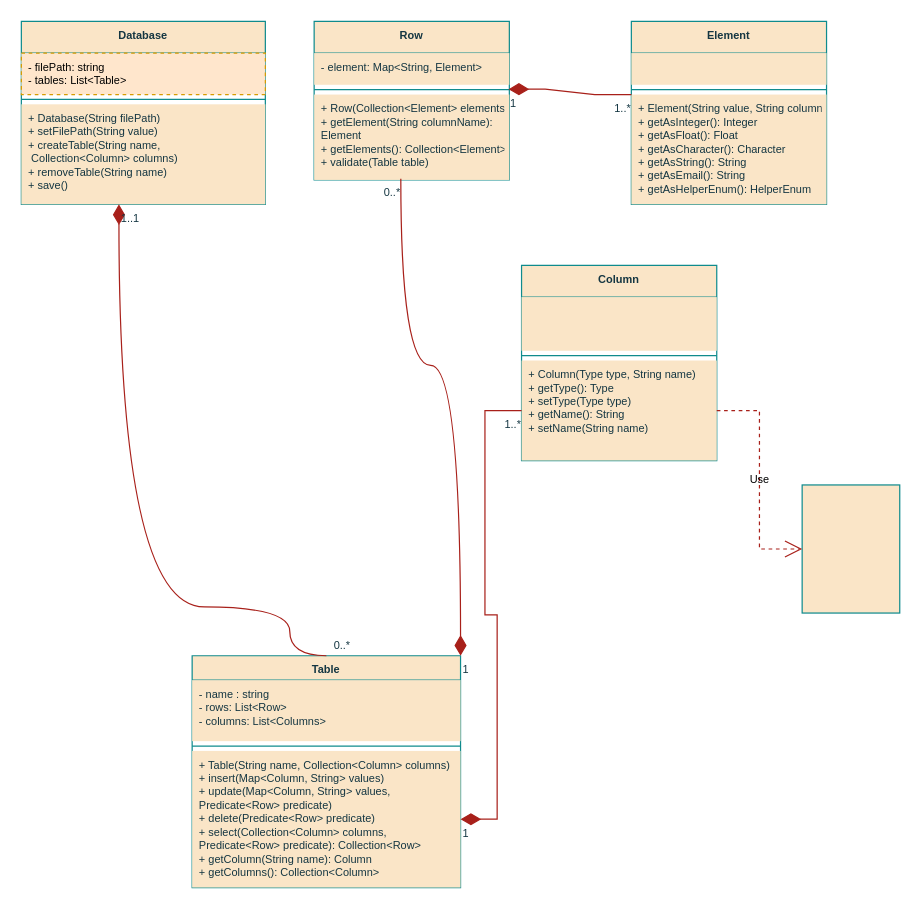
This 921x913 diagram has some shape labels left out. The centre of each missing label's shape, as x and y in pixels:
"+ Type: enum - type: Type - name: String" goes at pixel 618 323.
"- value: String - column: String" goes at pixel 728 68.
"<<enumeration>> Type INT FLOAT CHAR STR MONEY MONEY NVL" goes at pixel 850 548.
